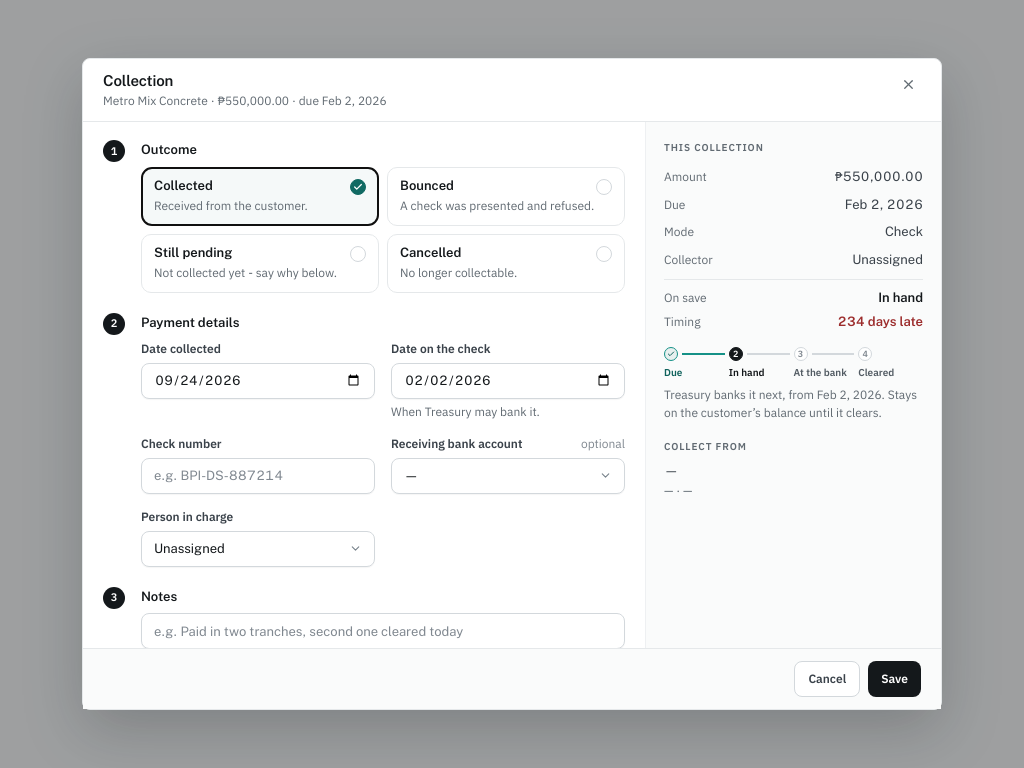
Test: settling a collection › will not record a collection with no date
Clear the date field labelled "Date collected" at [258, 381], box [141,363,375,399]
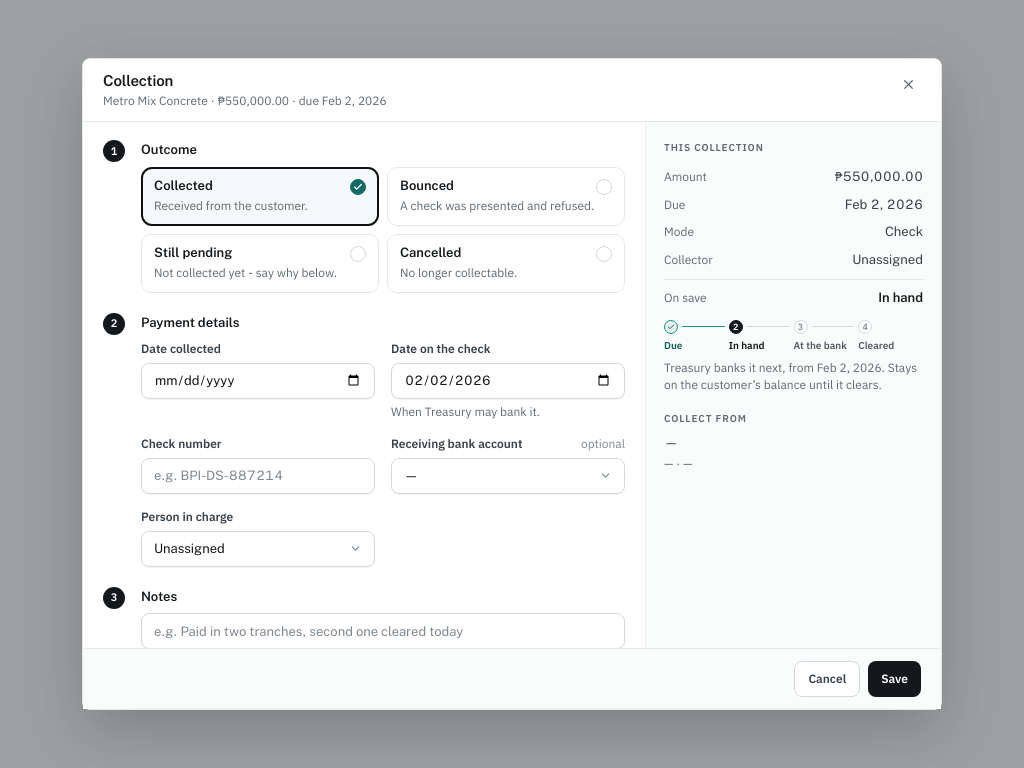
Click the button "Save" at [895, 679], box [868,661,921,697]
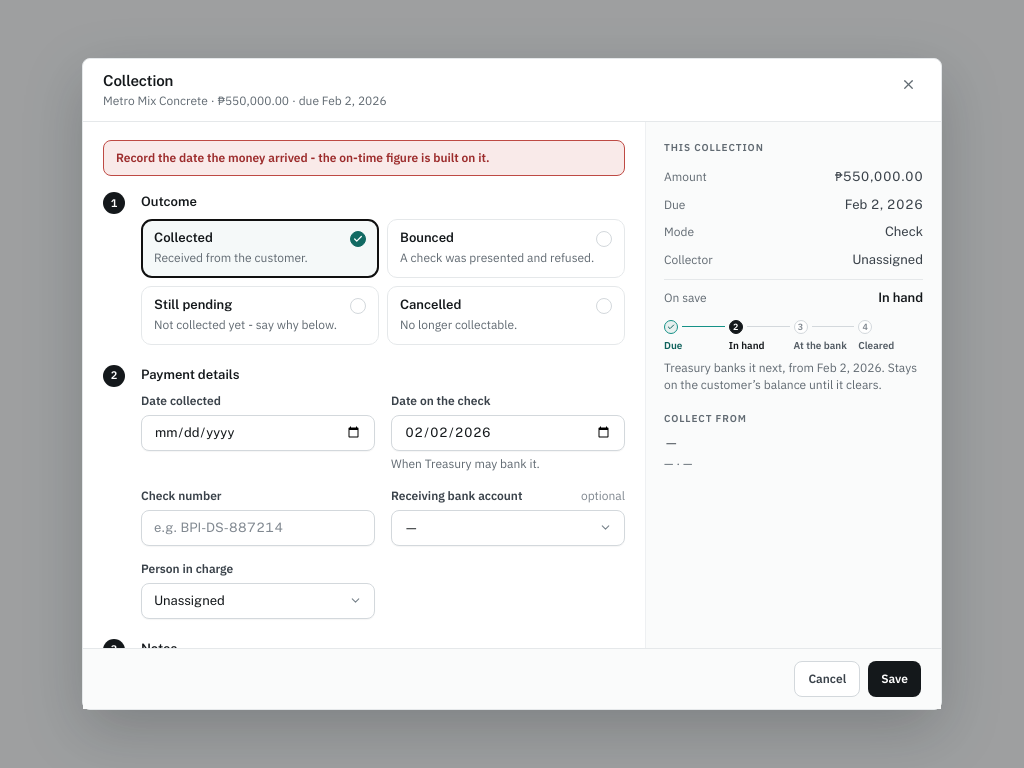
Expected: the text "Record the date the money arrived" is shown, [116,150,490,165]
